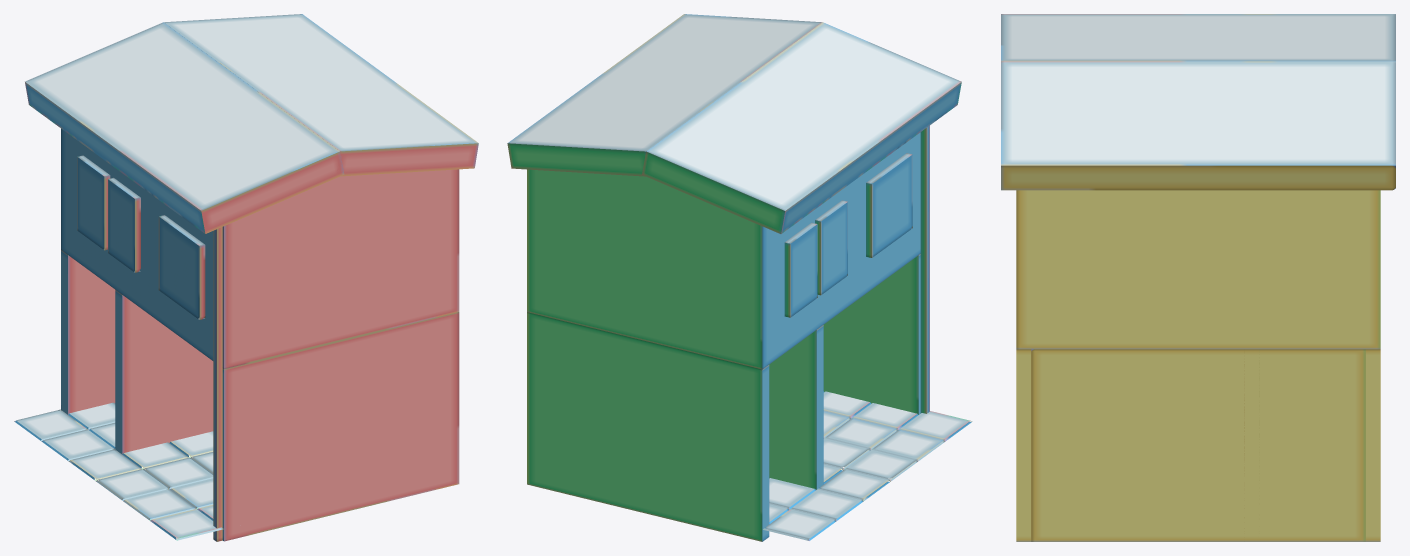
Rendered from House05.fbx.
The picture shows the model from 3 angles, left to right: view 1: azimuth 30°, elevation 25°; view 2: azimuth 150°, elevation 25°; view 3: azimuth 270°, elevation 25°; orthographic projection. The views are drawn at different scales.
Visible parts, largest first — view 1: cuboid_10, cuboid_11, cuboid_9, cuboid_14, cuboid_16, cuboid_6, cuboid_8, cuboid_7, cuboid_13, cuboid_12, cuboid_42, cuboid_47 (+9 smaller); view 2: cuboid_10, cuboid_6, cuboid_9, cuboid_14, cuboid_11, cuboid_16, cuboid_8, cuboid_7, cuboid_12, cuboid_13, cuboid_47, cuboid_44 (+9 smaller); view 3: cuboid_15, cuboid_10, cuboid_14, cuboid_9, cuboid_6, cuboid_11, cuboid_16.
Boxes of the visible parts, left/top/right/bottom form: cuboid_10: left=61, top=128, right=459, bottom=368; cuboid_11: left=222, top=312, right=459, bottom=541; cuboid_9: left=25, top=22, right=344, bottom=233; cuboid_14: left=164, top=14, right=478, bottom=176; cuboid_16: left=115, top=290, right=213, bottom=454; cuboid_6: left=61, top=250, right=115, bottom=414; cuboid_8: left=158, top=215, right=205, bottom=319; cuboid_7: left=213, top=227, right=222, bottom=541; cuboid_13: left=108, top=177, right=140, bottom=272; cuboid_12: left=77, top=155, right=110, bottom=250; cuboid_42: left=150, top=509, right=223, bottom=540; cuboid_47: left=14, top=409, right=87, bottom=441; cuboid_10: left=527, top=132, right=920, bottom=369; cuboid_6: left=527, top=312, right=769, bottom=541; cuboid_9: left=642, top=22, right=961, bottom=233; cuboid_14: left=507, top=14, right=822, bottom=176; cuboid_11: left=823, top=254, right=920, bottom=414; cuboid_16: left=769, top=325, right=823, bottom=489; cuboid_8: left=866, top=153, right=912, bottom=257; cuboid_7: left=920, top=125, right=929, bottom=413; cuboid_12: left=784, top=222, right=817, bottom=317; cuboid_13: left=815, top=200, right=847, bottom=295; cuboid_47: left=763, top=509, right=836, bottom=540; cuboid_44: left=817, top=469, right=890, bottom=501; cuboid_15: left=1031, top=349, right=1365, bottom=541; cuboid_10: left=1016, top=190, right=1380, bottom=349; cuboid_14: left=1001, top=61, right=1395, bottom=190; cuboid_9: left=1001, top=14, right=1395, bottom=61; cuboid_6: left=1365, top=349, right=1380, bottom=541; cuboid_11: left=1016, top=349, right=1031, bottom=541; cuboid_16: left=1244, top=349, right=1259, bottom=541.
Bounding box in the file's own units: 314 × 374 × 325.
Materials: 1 (1 with a texture image).
